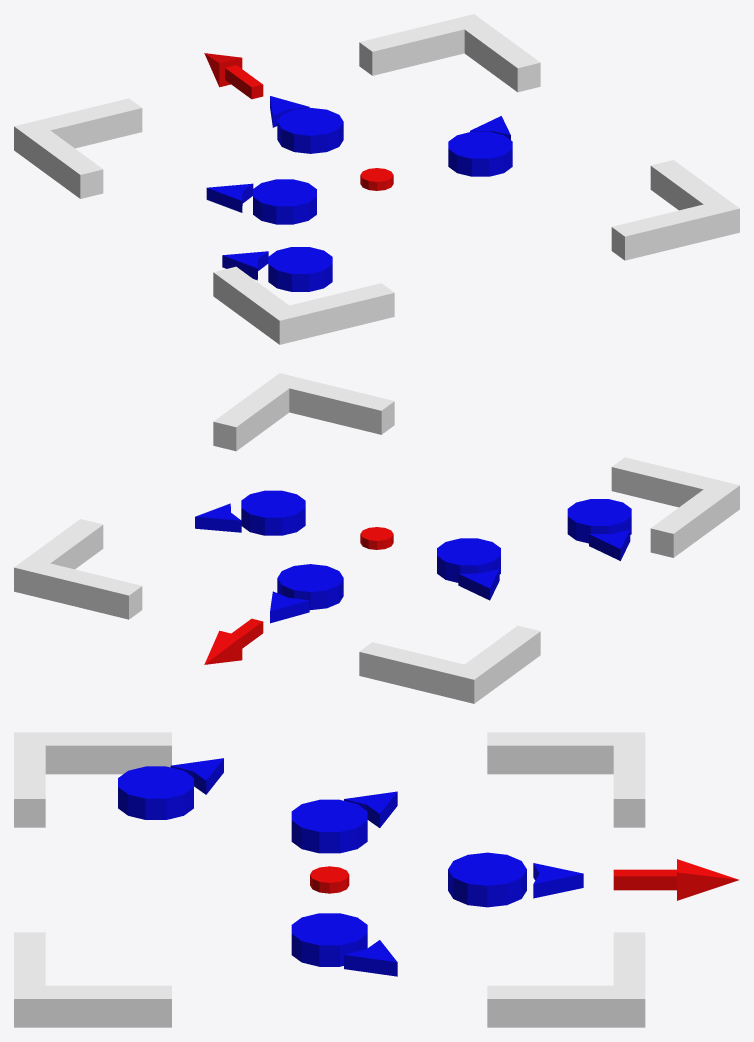
Rendered from cf-wedge.obj.
The picture shows the model from 3 angles, top to bottom: view 1: azimuth 30°, elevation 25°; view 2: azimuth 150°, elevation 25°; view 3: azimuth 270°, elevation 25°; orthographic projection. The views are drawn at different scales.
Parts seen in each view (by area): view 1: i_frame_Cube.001_i_frame_Cube.002, Plane.006_Plane.018, Plane.005_Plane.017, Plane.007_Plane.019, Plane.011_Plane.020, arrow_Cube.002_arrow_Cube.003, Plane.012_Plane.021; view 2: i_frame_Cube.001_i_frame_Cube.002, Plane.011_Plane.020, Plane.007_Plane.019, Plane.005_Plane.017, Plane.006_Plane.018, arrow_Cube.002_arrow_Cube.003, Plane.012_Plane.021; view 3: i_frame_Cube.001_i_frame_Cube.002, Plane.007_Plane.019, Plane.011_Plane.020, Plane.006_Plane.018, Plane.005_Plane.017, arrow_Cube.002_arrow_Cube.003, Plane.012_Plane.021.
Part boxes in pixels (x1,y1,x2,y2): i_frame_Cube.001_i_frame_Cube.002: [14, 14, 739, 344]; Plane.006_Plane.018: [206, 179, 316, 224]; Plane.005_Plane.017: [222, 247, 332, 291]; Plane.007_Plane.019: [270, 96, 343, 153]; Plane.011_Plane.020: [448, 116, 512, 176]; arrow_Cube.002_arrow_Cube.003: [204, 53, 263, 99]; Plane.012_Plane.021: [360, 168, 393, 190]; i_frame_Cube.001_i_frame_Cube.002: [14, 373, 739, 703]; Plane.011_Plane.020: [195, 490, 305, 535]; Plane.007_Plane.019: [270, 564, 343, 623]; Plane.005_Plane.017: [567, 499, 631, 560]; Plane.006_Plane.018: [437, 538, 500, 600]; arrow_Cube.002_arrow_Cube.003: [204, 618, 263, 664]; Plane.012_Plane.021: [360, 527, 393, 549]; i_frame_Cube.001_i_frame_Cube.002: [14, 732, 645, 1027]; Plane.007_Plane.019: [448, 852, 583, 907]; Plane.011_Plane.020: [291, 913, 397, 976]; Plane.006_Plane.018: [291, 791, 397, 853]; Plane.005_Plane.017: [118, 758, 223, 819]; arrow_Cube.002_arrow_Cube.003: [613, 859, 738, 900]; Plane.012_Plane.021: [310, 866, 349, 893].
Size of the model in its own units: 4 by 0.2 by 4.6.
